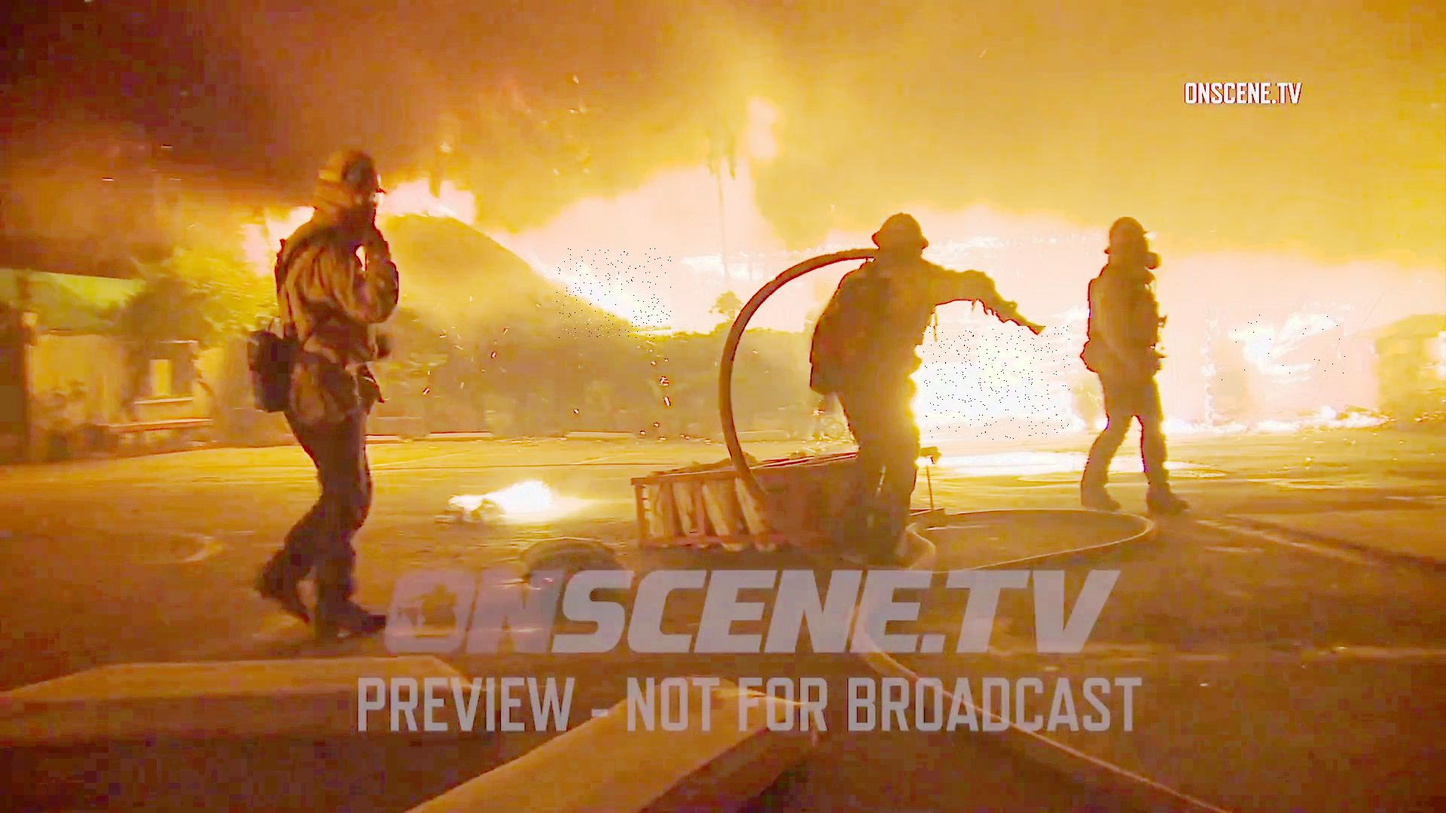fire: (923, 326, 1070, 440), (556, 249, 671, 339), (1218, 315, 1346, 389)
